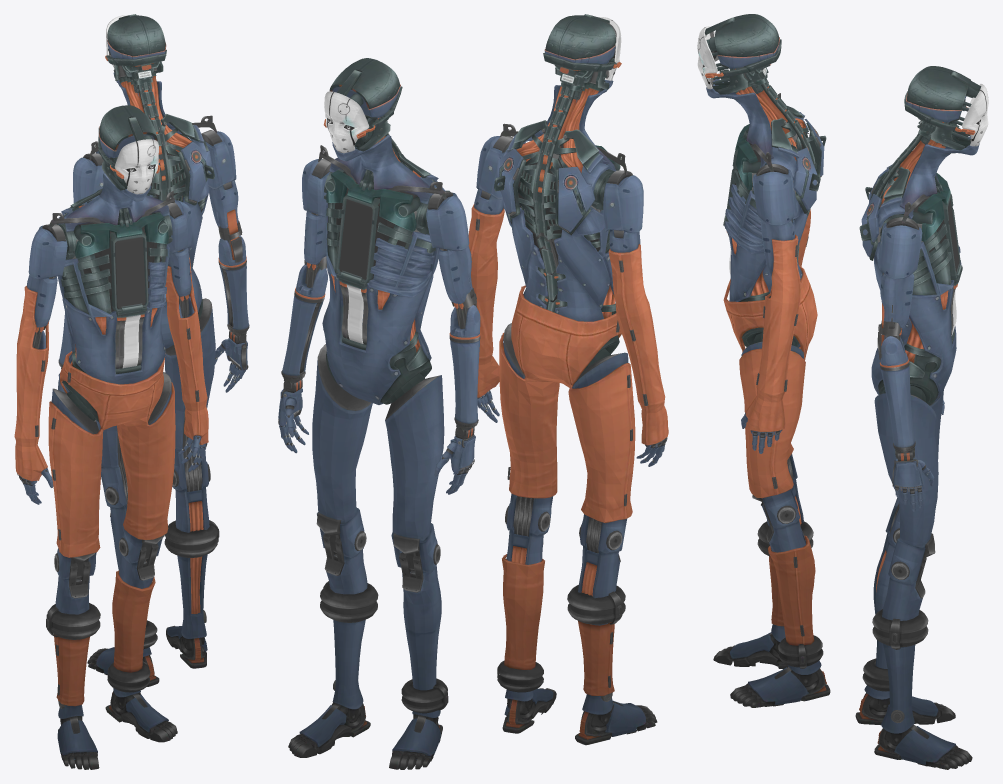
File: adam_stylised-transformed.glb
The picture shows the model from 3 angles, left to right: view 1: azimuth 30°, elevation 25°; view 2: azimuth 150°, elevation 25°; view 3: azimuth 270°, elevation 25°; orthographic projection. The views are drawn at different scales.
Parts seen in each view (by area): view 1: Adam_posed_M_Adam_ArmsLegs_0, Adam_posed_M_Adam_TorsoHead_0, Adam_posed_NoCloth_M_Adam_ArmsLegs_NoCloth_0, Adam_posed_NoCloth_M_Adam_TorsoHead_NoCloth_0, Adam_posed_M_Adam_Screen_0; view 2: Adam_posed_M_Adam_ArmsLegs_0, Adam_posed_NoCloth_M_Adam_ArmsLegs_NoCloth_0, Adam_posed_NoCloth_M_Adam_TorsoHead_NoCloth_0, Adam_posed_M_Adam_TorsoHead_0, Adam_posed_M_Adam_Screen_0; view 3: Adam_posed_M_Adam_ArmsLegs_0, Adam_posed_NoCloth_M_Adam_ArmsLegs_NoCloth_0, Adam_posed_NoCloth_M_Adam_TorsoHead_NoCloth_0, Adam_posed_M_Adam_TorsoHead_0.
Part boxes in pixels (x1=…): Adam_posed_M_Adam_ArmsLegs_0: x1=14, y1=191, x2=208, y2=769; Adam_posed_M_Adam_TorsoHead_0: x1=56, y1=105, x2=172, y2=422; Adam_posed_NoCloth_M_Adam_ArmsLegs_NoCloth_0: x1=58, y1=115, x2=249, y2=686; Adam_posed_NoCloth_M_Adam_TorsoHead_NoCloth_0: x1=96, y1=14, x2=214, y2=348; Adam_posed_M_Adam_Screen_0: x1=115, y1=237, x2=145, y2=308; Adam_posed_M_Adam_ArmsLegs_0: x1=468, y1=123, x2=668, y2=745; Adam_posed_NoCloth_M_Adam_ArmsLegs_NoCloth_0: x1=278, y1=145, x2=480, y2=769; Adam_posed_NoCloth_M_Adam_TorsoHead_NoCloth_0: x1=322, y1=58, x2=449, y2=404; Adam_posed_M_Adam_TorsoHead_0: x1=494, y1=14, x2=621, y2=369; Adam_posed_M_Adam_Screen_0: x1=339, y1=199, x2=372, y2=279; Adam_posed_M_Adam_ArmsLegs_0: x1=713, y1=93, x2=830, y2=707; Adam_posed_NoCloth_M_Adam_ArmsLegs_NoCloth_0: x1=855, y1=194, x2=972, y2=769; Adam_posed_NoCloth_M_Adam_TorsoHead_NoCloth_0: x1=859, y1=66, x2=988, y2=405; Adam_posed_M_Adam_TorsoHead_0: x1=697, y1=14, x2=826, y2=347.
Size of the model in its own units: 1.07 by 2.23 by 0.8815.
Materials: 5 (5 with a texture image).
